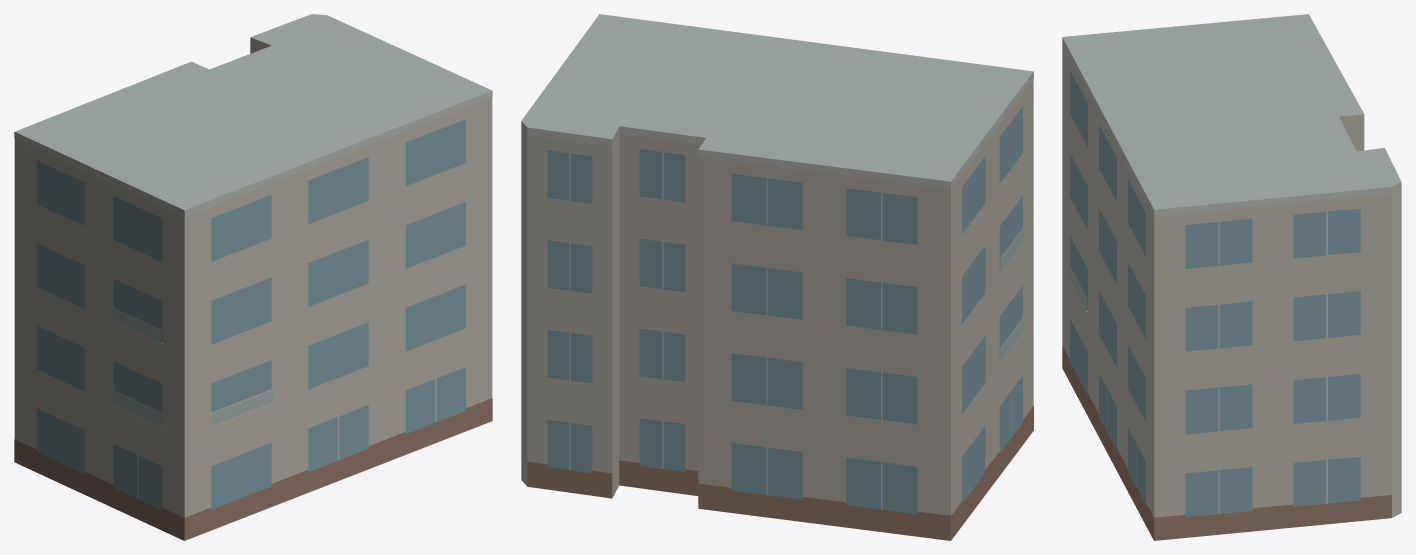
Rendered from survey-upis-32800489.glb.
3 views of the same model, side by side, from view 1: azimuth 30°, elevation 25°; view 2: azimuth 150°, elevation 25°; view 3: azimuth 270°, elevation 25° (orthographic). The views are drawn at different scales.
Parts seen in each view (by area): view 1: survey-upis-32800489.tmp; view 2: survey-upis-32800489.tmp; view 3: survey-upis-32800489.tmp.
Boxes of the visible parts, left/top/right/bottom form: survey-upis-32800489.tmp: left=14, top=14, right=492, bottom=540; survey-upis-32800489.tmp: left=521, top=14, right=1033, bottom=540; survey-upis-32800489.tmp: left=1062, top=14, right=1401, bottom=540.
Size of the model in its own units: 14.85 by 11.7 by 10.88.
